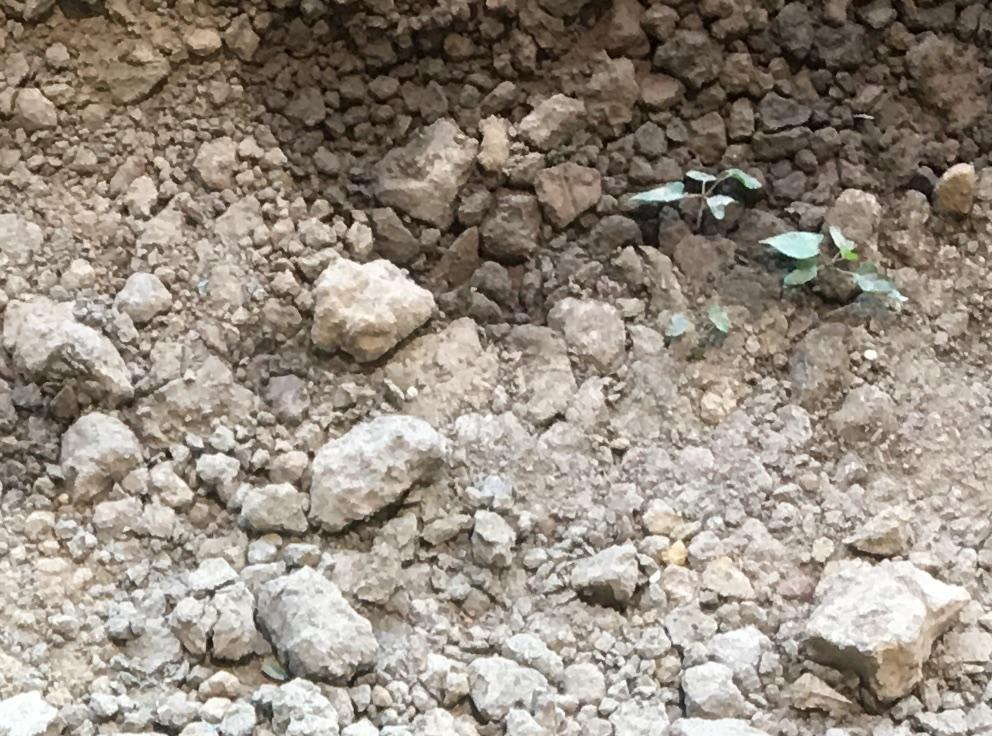block: (805, 555, 979, 710), (255, 564, 380, 693), (303, 415, 446, 527), (309, 248, 435, 366)
